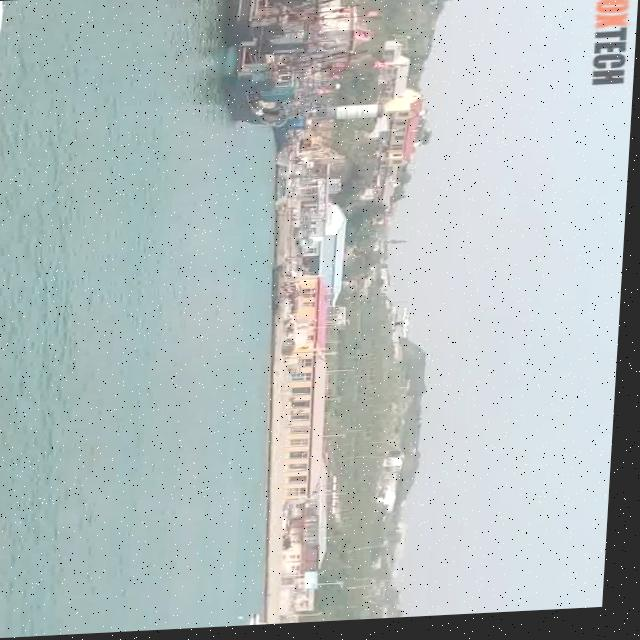drone: (396, 310, 420, 341)
